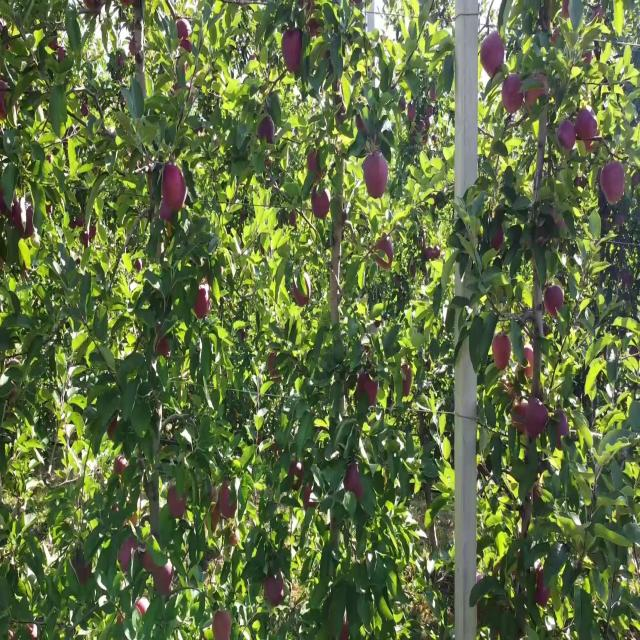apple: (161, 164, 188, 211), (362, 151, 388, 198), (480, 31, 504, 78), (600, 162, 625, 204), (525, 398, 548, 440), (11, 198, 35, 238), (501, 73, 524, 113), (524, 73, 548, 110), (281, 29, 302, 71), (575, 107, 598, 144), (344, 462, 364, 500), (118, 536, 138, 573), (492, 333, 511, 371), (264, 571, 284, 607), (374, 233, 394, 269), (154, 560, 174, 596), (358, 371, 379, 404), (219, 482, 238, 518), (192, 282, 211, 318), (291, 273, 311, 307), (544, 284, 564, 318), (511, 396, 528, 434), (535, 567, 551, 607), (554, 411, 570, 449), (311, 187, 330, 219), (212, 609, 231, 640), (558, 118, 576, 150), (168, 487, 186, 518), (258, 116, 275, 144), (141, 546, 159, 572), (289, 460, 304, 489), (48, 38, 65, 63), (308, 149, 322, 178), (268, 351, 281, 382), (302, 484, 318, 508), (501, 377, 516, 402), (282, 54, 301, 73), (401, 362, 412, 394), (306, 12, 320, 37), (158, 199, 173, 222), (524, 344, 534, 378), (491, 224, 504, 250), (82, 222, 96, 246), (584, 134, 600, 154), (177, 18, 191, 40), (114, 456, 129, 476), (135, 596, 150, 616), (552, 209, 566, 230), (156, 338, 170, 358), (106, 415, 118, 438), (52, 40, 65, 61), (210, 504, 220, 530), (340, 614, 349, 640), (24, 622, 37, 640), (560, 0, 570, 21), (179, 38, 192, 53), (0, 186, 6, 214), (229, 530, 239, 546), (288, 210, 297, 226), (80, 103, 89, 116)
